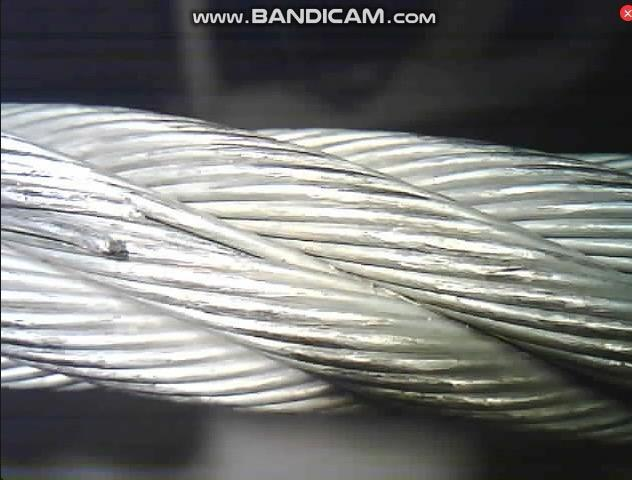break: (94, 184, 153, 268)
